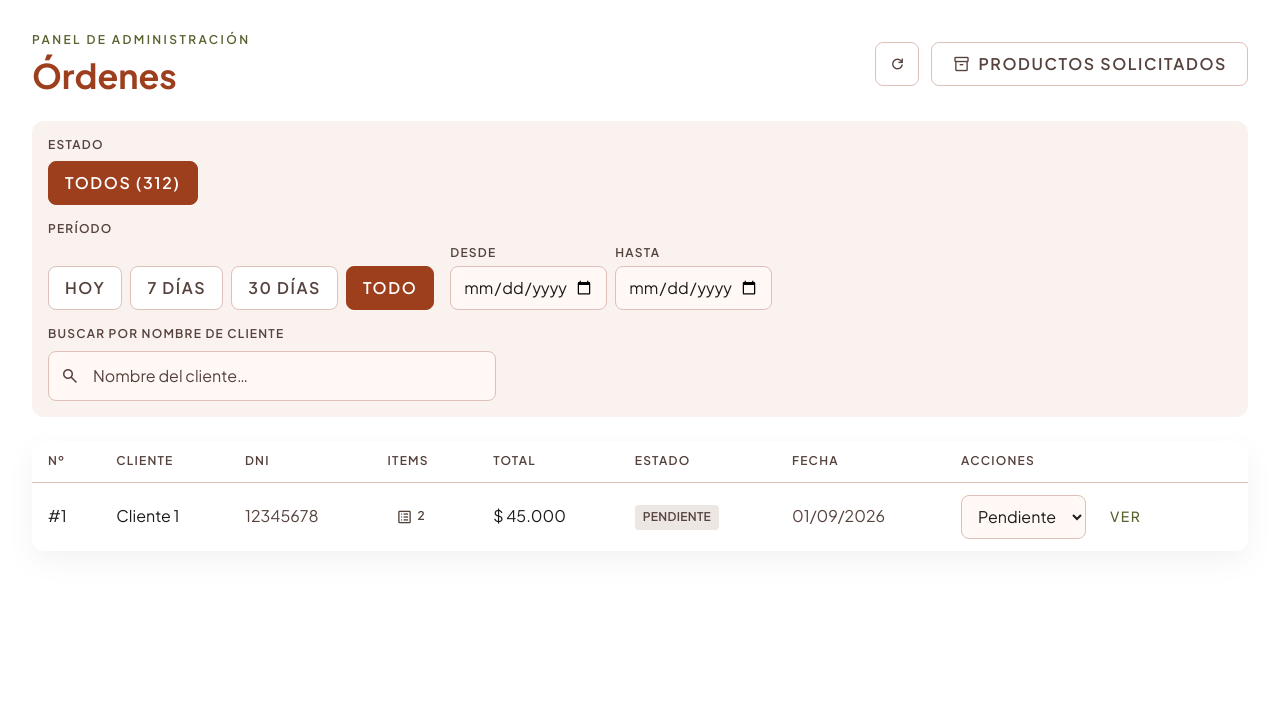
Test: AdminOrdenes — el select de estado sin diccionario › Actualizar reintenta la lista de estados cuando su primer fetch falló
Expected: the heading "Órdenes" is shown, [32,54,177,97]
Click the button named "Actualizar".
click(897, 64)  # box [875,42,919,86]
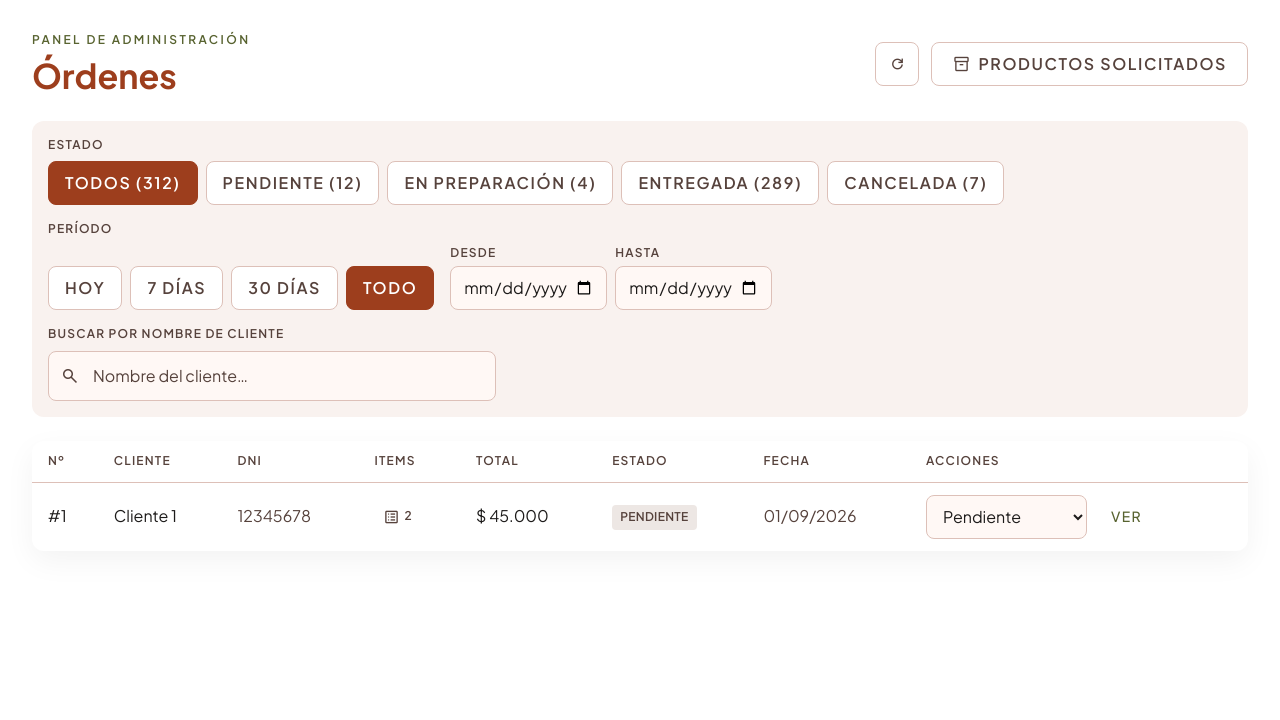
Now the button "Pendiente (12)" is shown, box [206,161,379,205]
